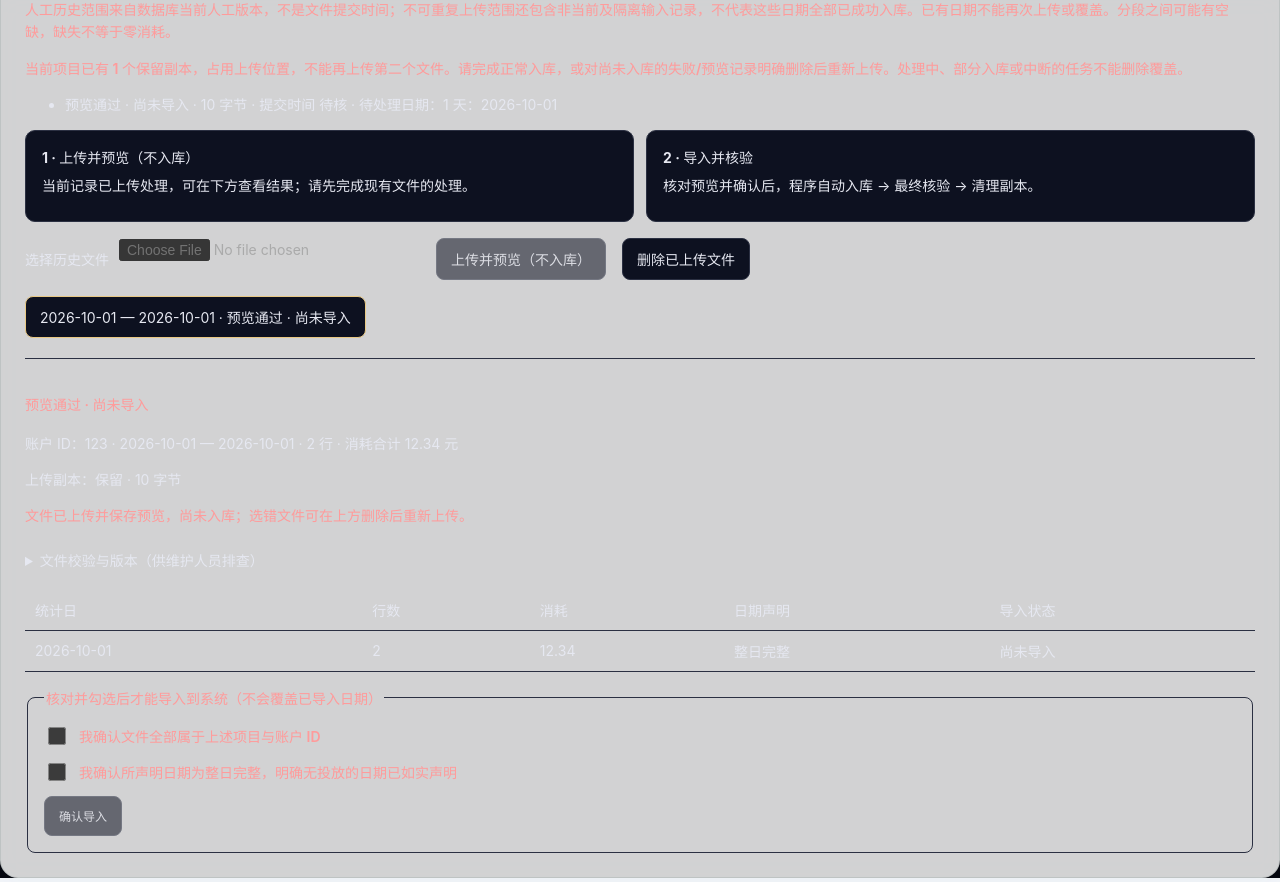
Test case: history upload confirmation and isolation › does not release an unknown apply after manual context refresh returns context-failed
This screenshot has width=1280, height=882.
(page scrolled)
Click the checkbox labelled "我确认文件全部属于上述项目与账户 ID".
click(57, 736)  # box [48, 727, 66, 745]
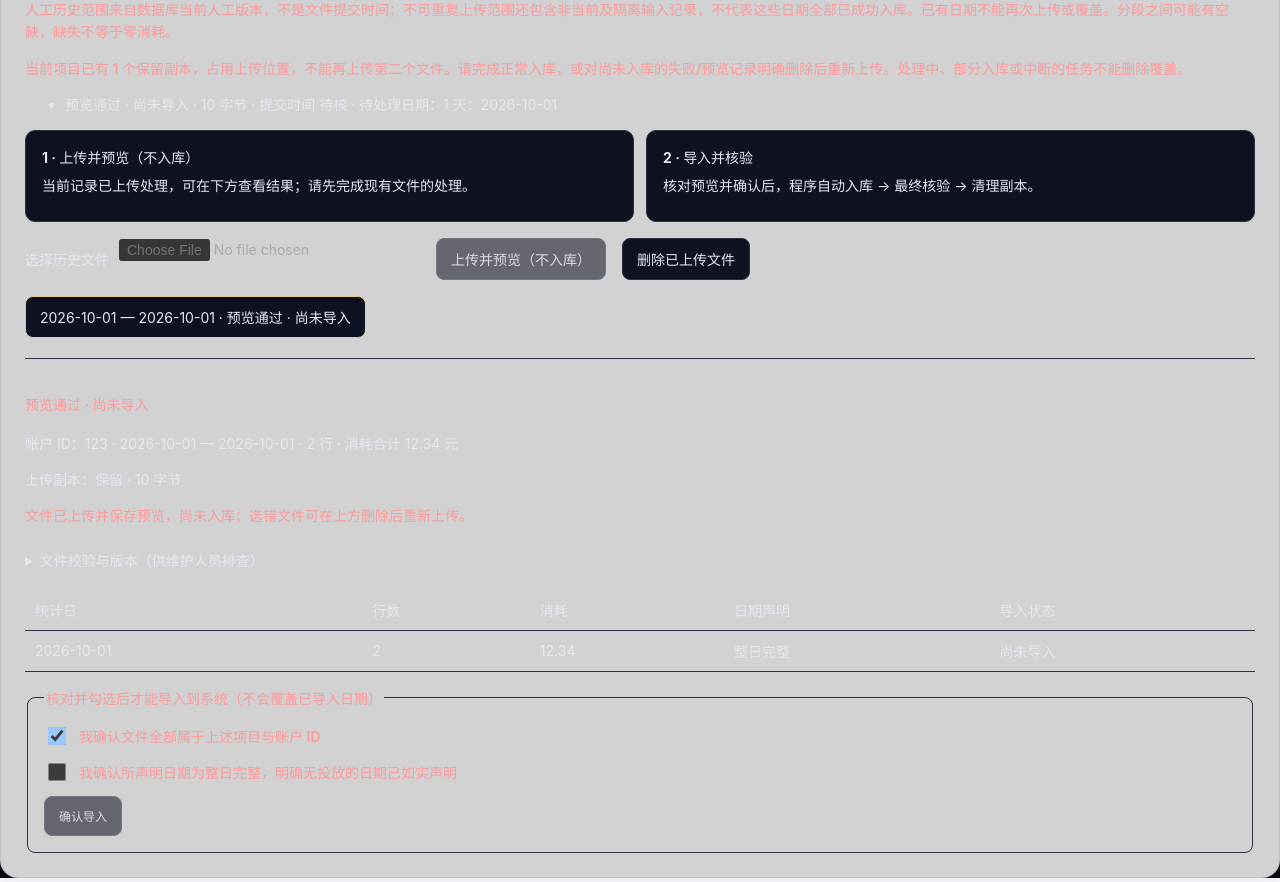
Click the checkbox labelled "我确认所声明日期为整日完整，明确无投放的日期已如实声明".
click(57, 772)  # box [48, 763, 66, 781]
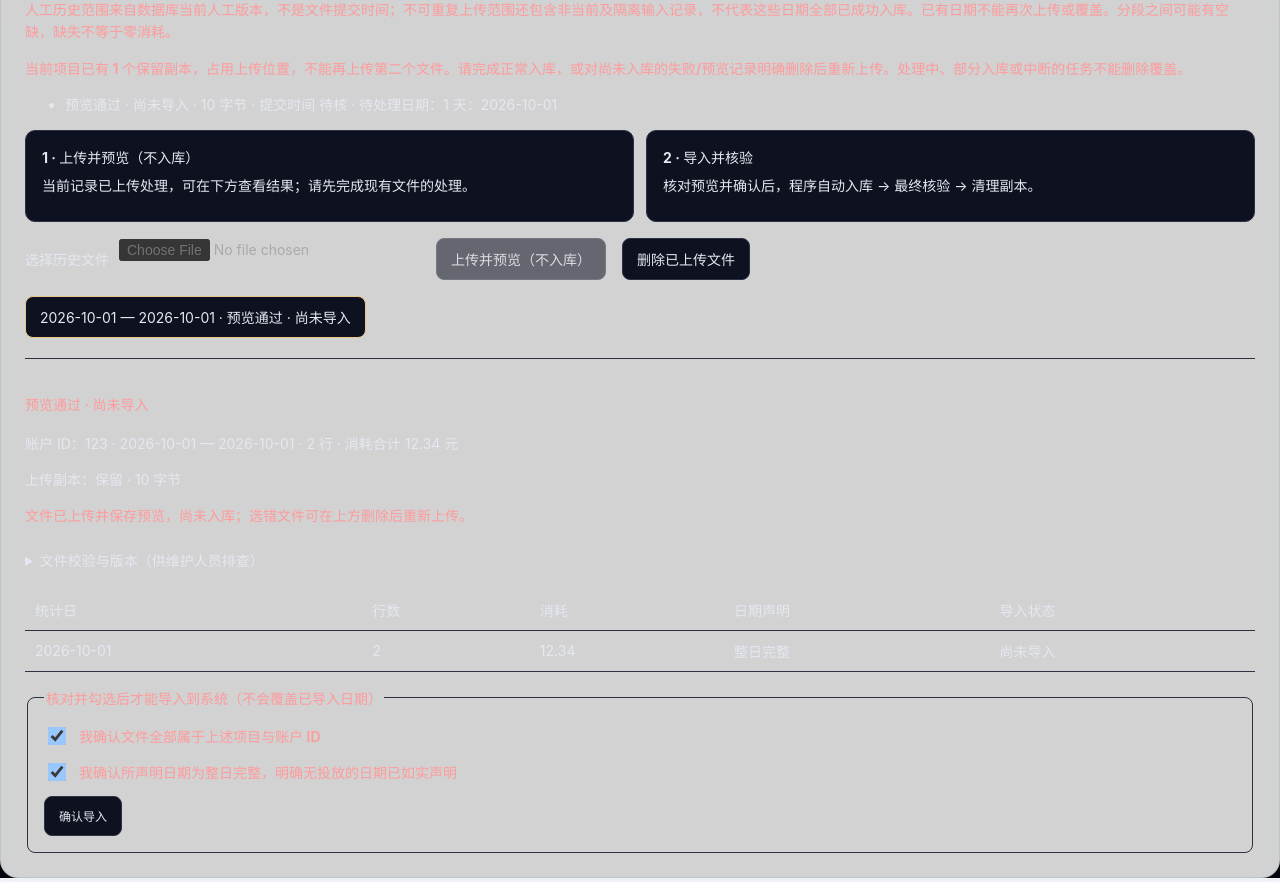
Click the button "确认导入".
click(83, 816)  # box [44, 796, 122, 836]
(page scrolled)
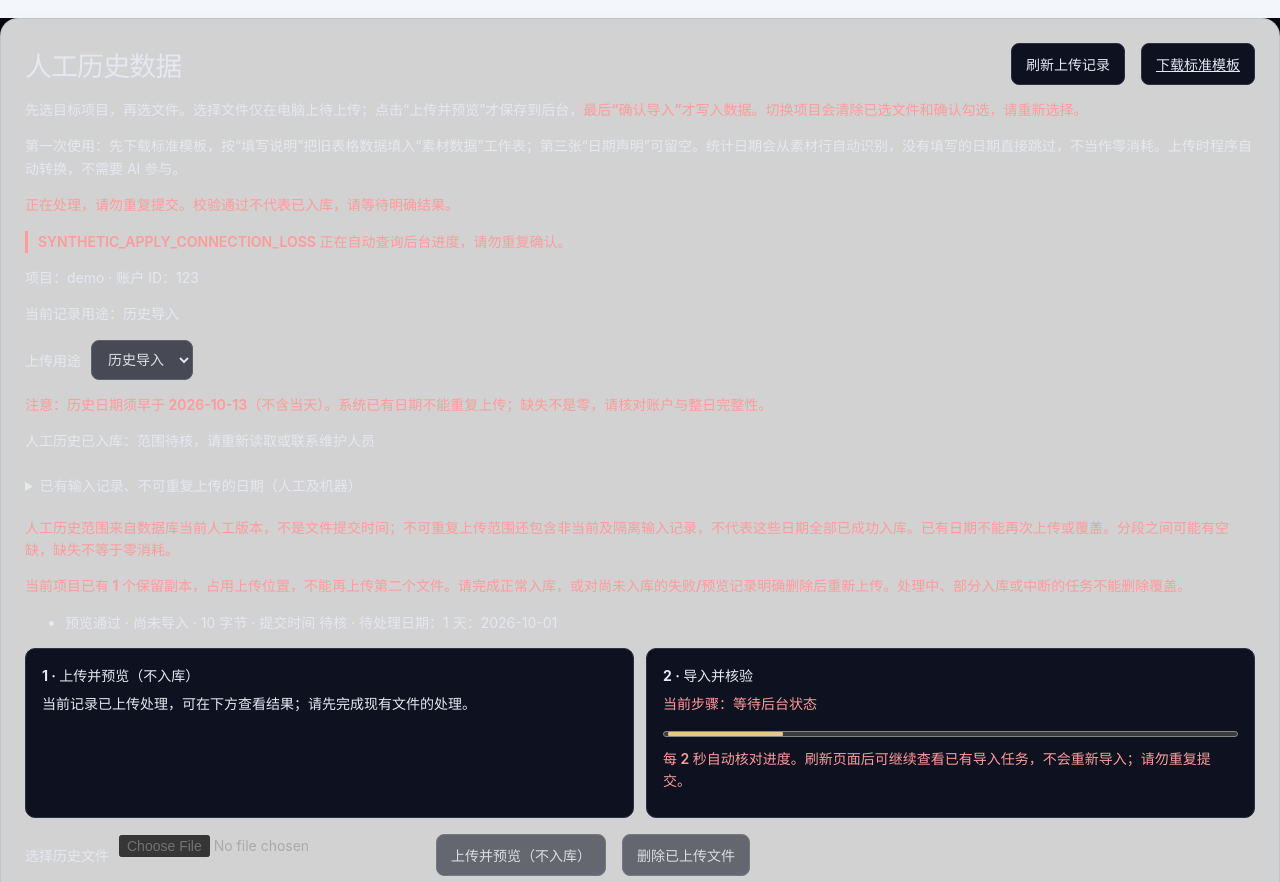
Click the button "刷新上传记录".
click(1068, 64)  # box [1011, 43, 1125, 85]
(page scrolled)
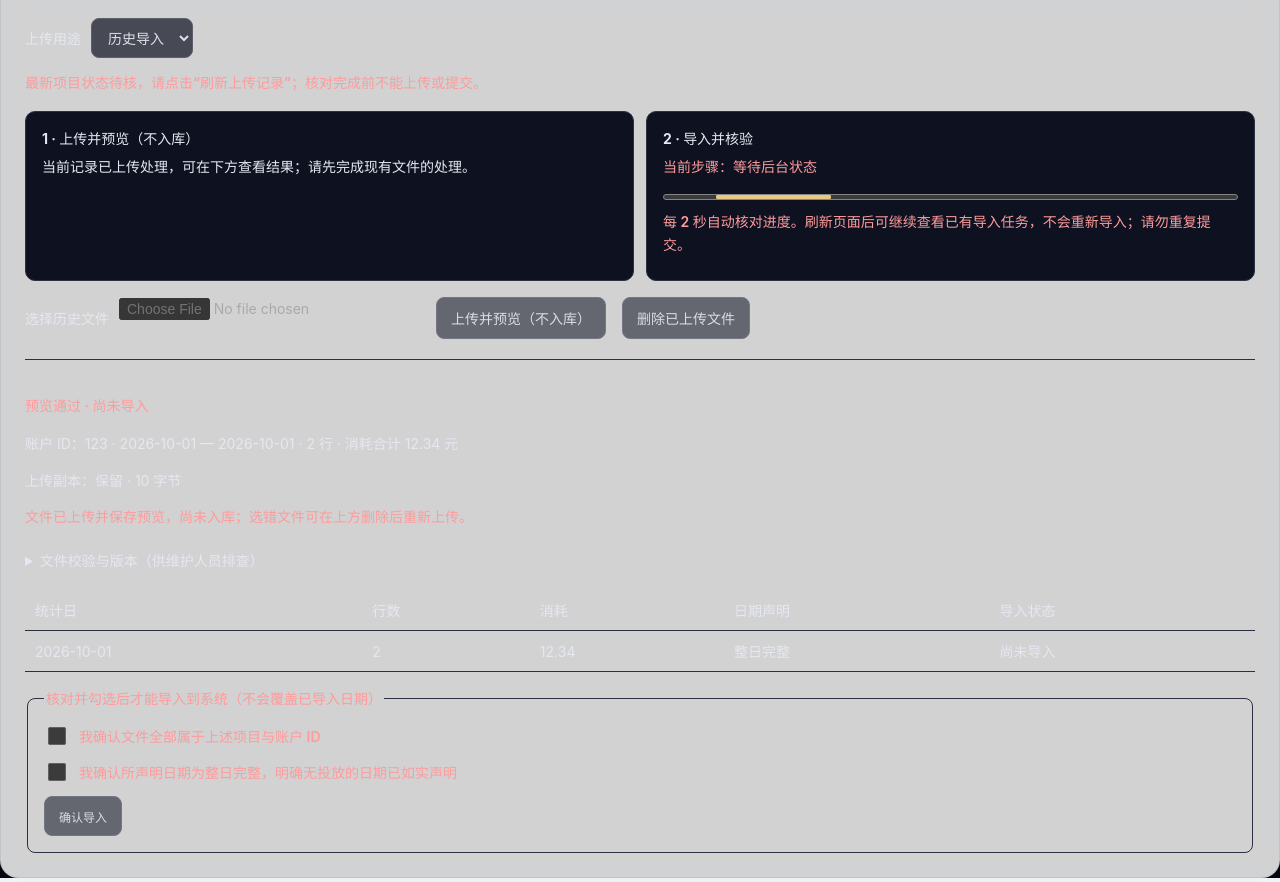
Expected: the file field labelled "选择历史文件" is disabled, [119, 298, 420, 338]
Now the button "确认导入" is disabled
Now the progress indicator named "等待后台进度" is shown, box [663, 191, 1238, 203]
Click the button "确认导入".
click(83, 816)  # box [44, 796, 122, 836]
Wait 2000 ms
(page scrolled)
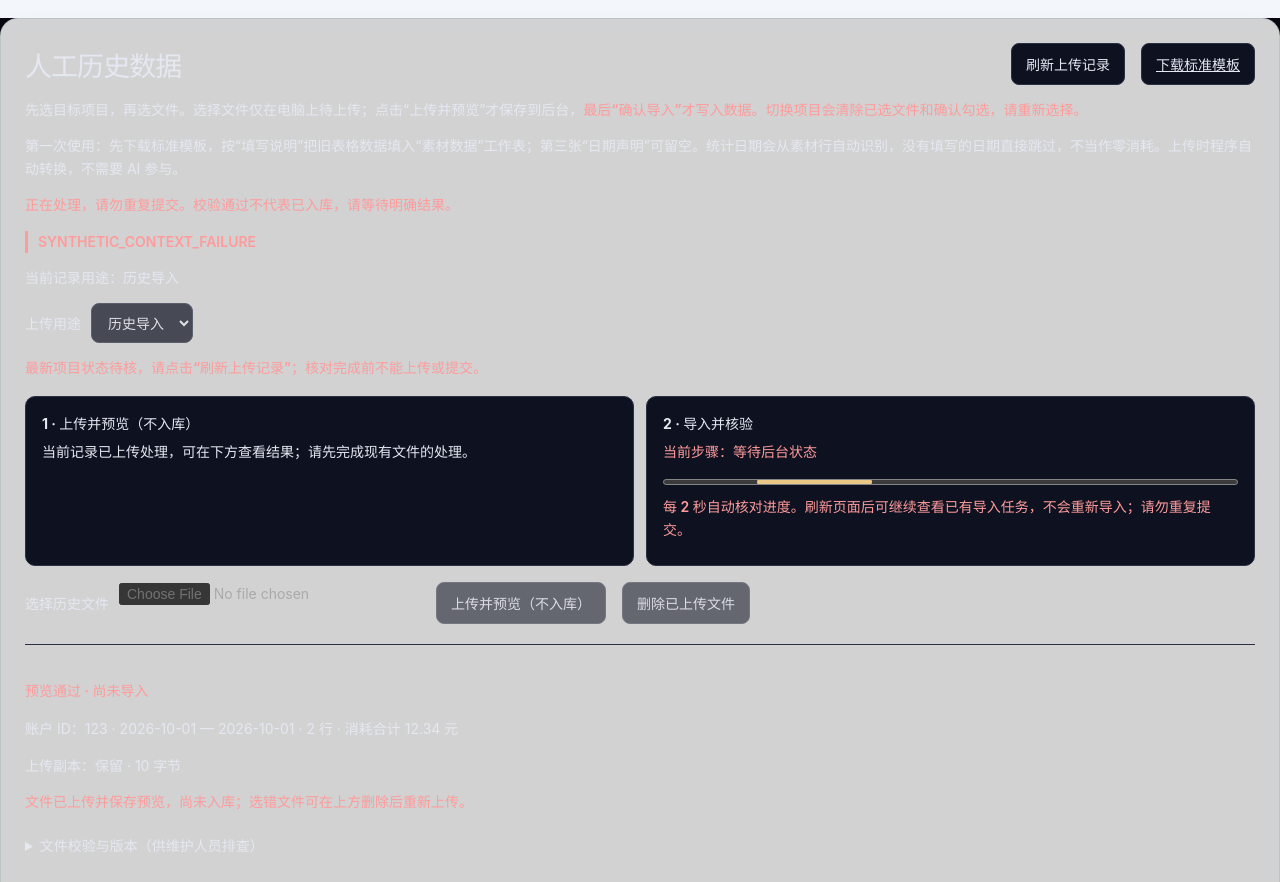
Click the button "刷新上传记录".
click(1068, 64)  # box [1011, 43, 1125, 85]
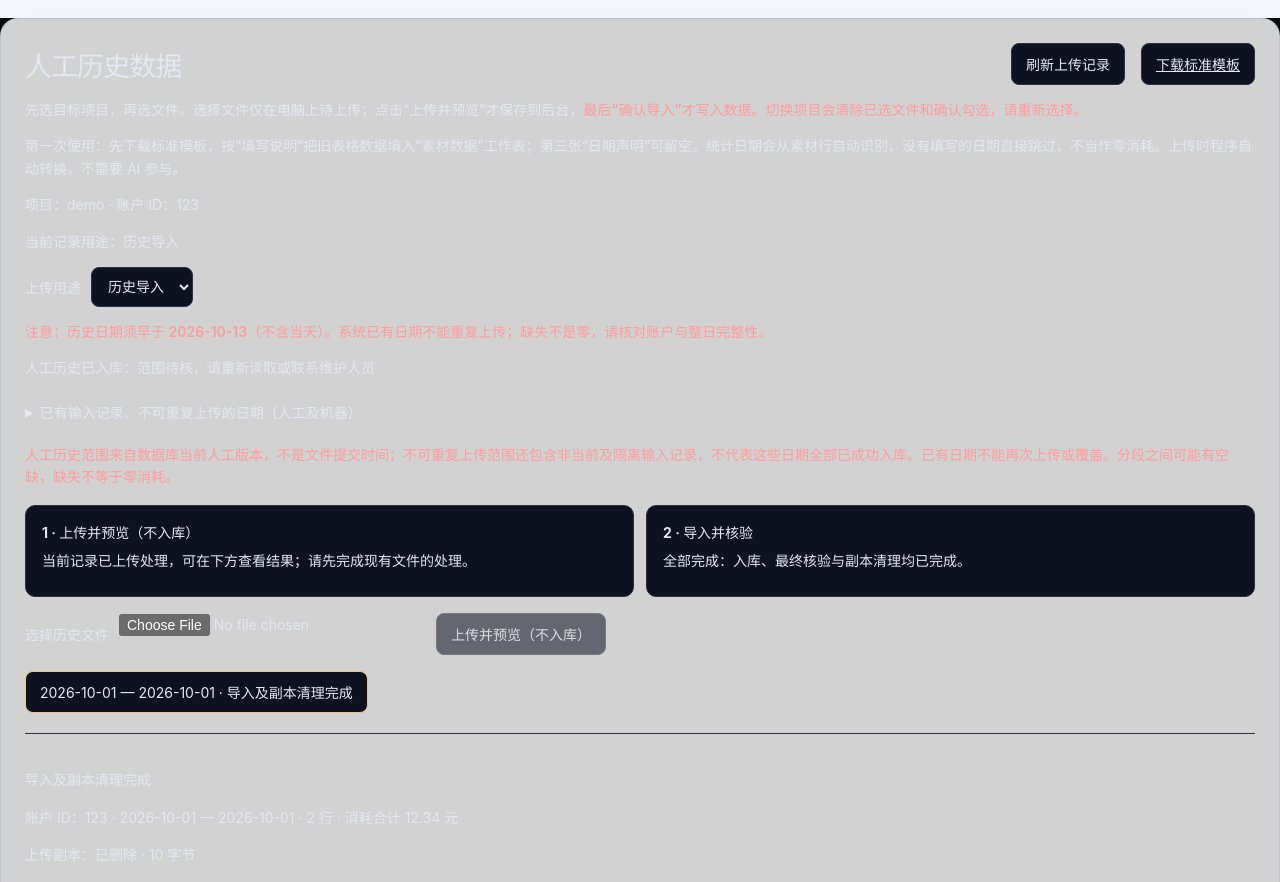
Now the text "导入及副本清理完成" is shown, box [25, 671, 368, 713]
Now the file field labelled "选择历史文件" is enabled, box [119, 614, 420, 654]
